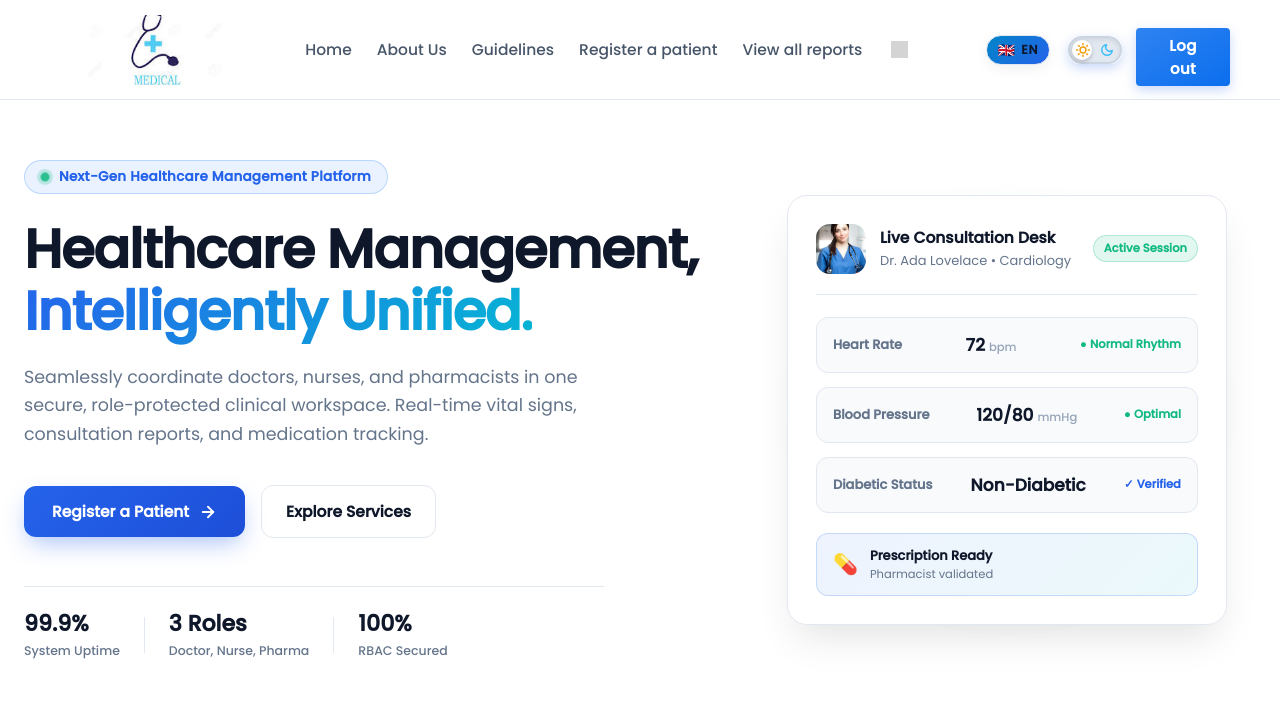
Scenario: Doctor Authentication Flow › allows the doctor to log out and returns to unauthenticated state
The width and height of the screenshot is (1280, 720).
Check: the link "View all reports" is shown, box [742, 39, 862, 60]
Step 1. Click the button "Log out" → (1183, 57), box [1136, 28, 1230, 86]
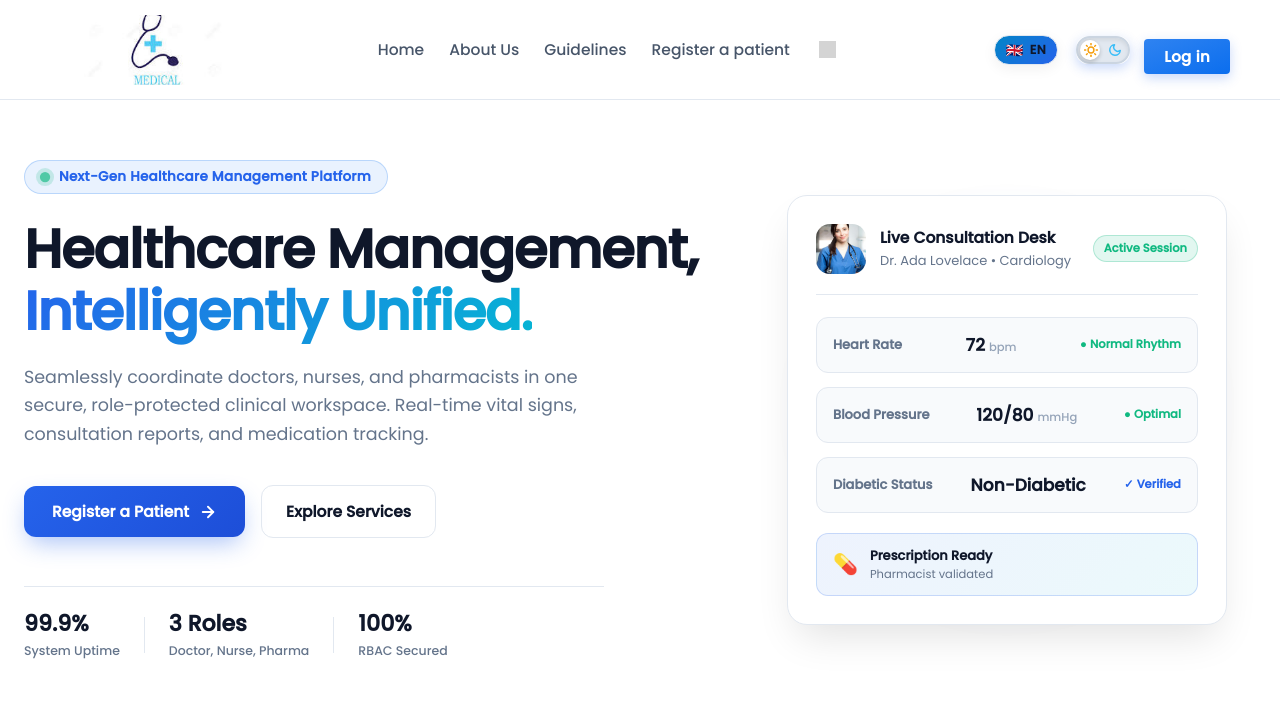
Check: the link with class "navbar" no longer shows "View all reports"
